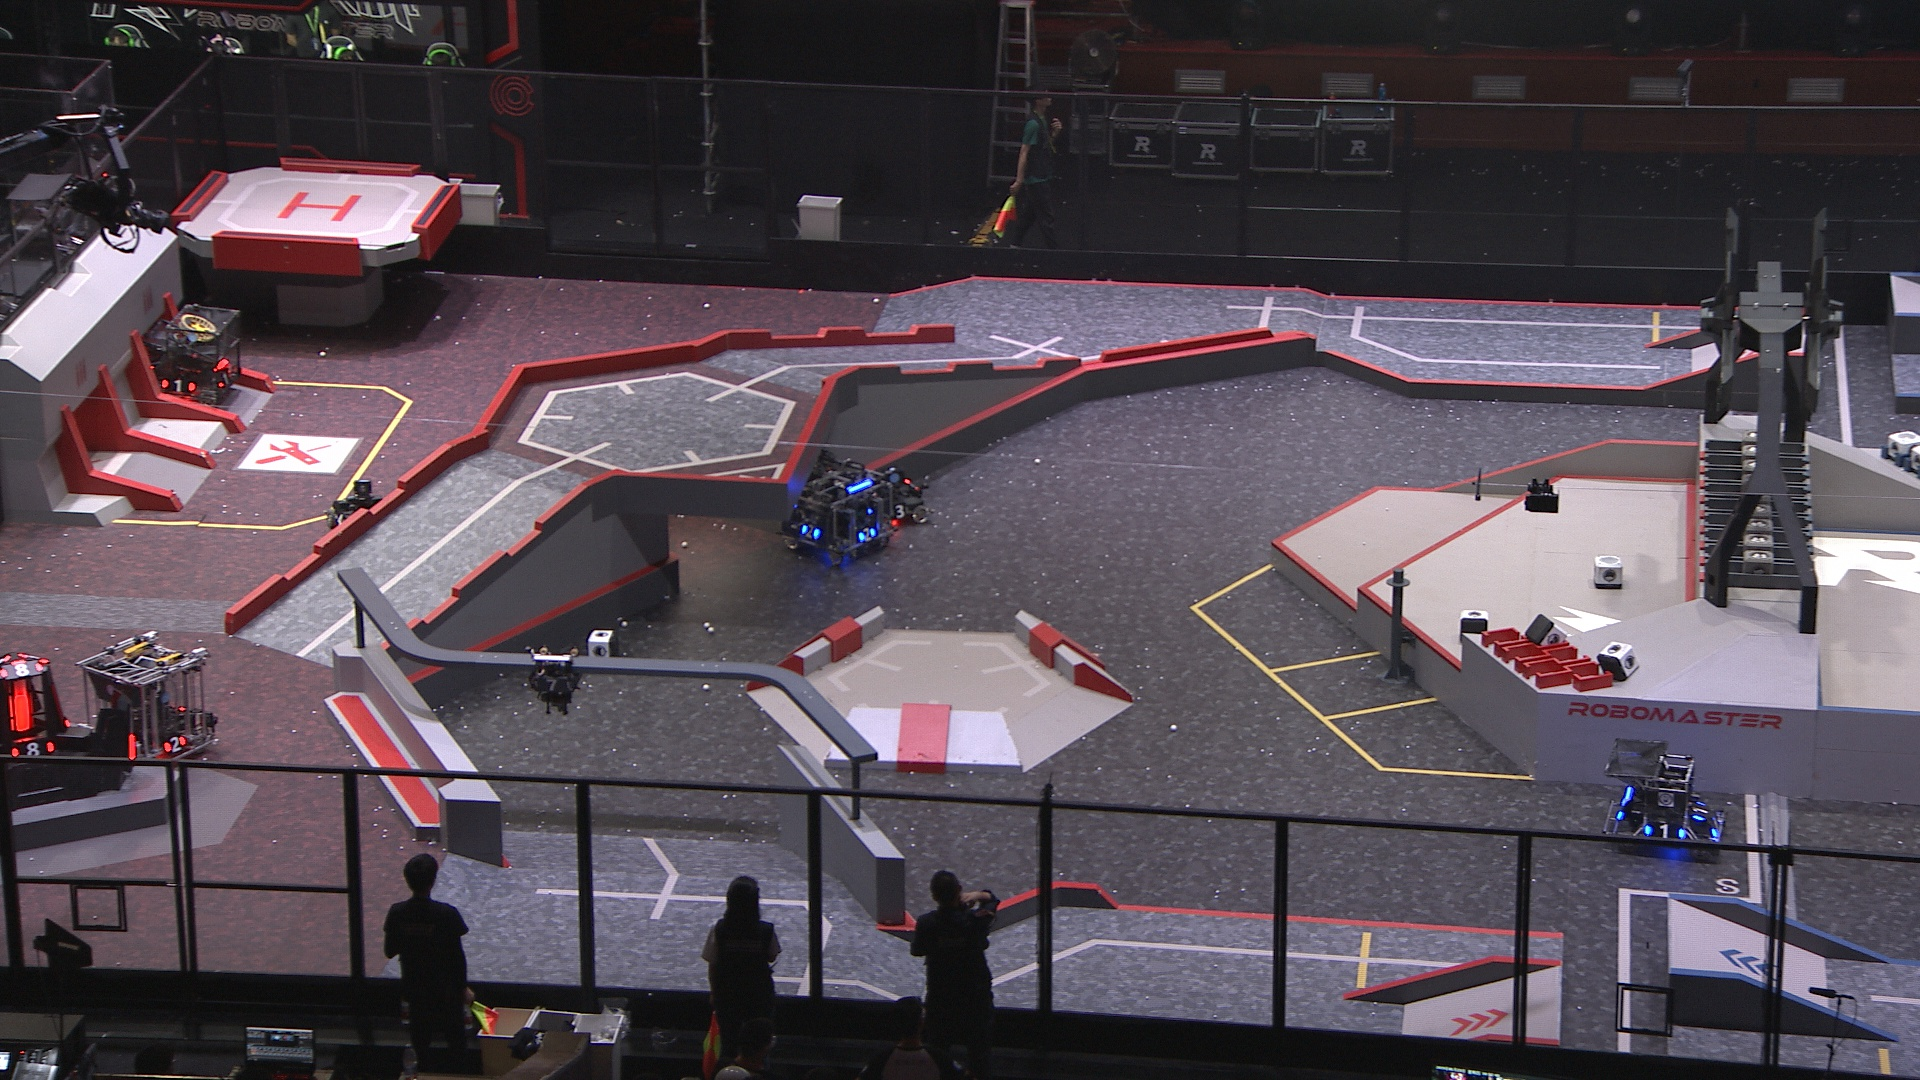armor: (8, 690, 36, 733), (11, 741, 55, 760), (1, 657, 45, 675), (533, 676, 570, 698), (1644, 825, 1685, 843), (160, 377, 196, 396), (160, 735, 189, 756), (123, 735, 138, 764), (799, 520, 820, 541), (856, 527, 878, 546), (887, 502, 911, 520), (218, 367, 233, 389), (1691, 802, 1708, 822)
car: (76, 632, 222, 773), (1598, 735, 1726, 860), (773, 446, 899, 567), (142, 301, 248, 419), (847, 456, 932, 533), (320, 477, 400, 553)
watcher: (524, 645, 585, 716)
